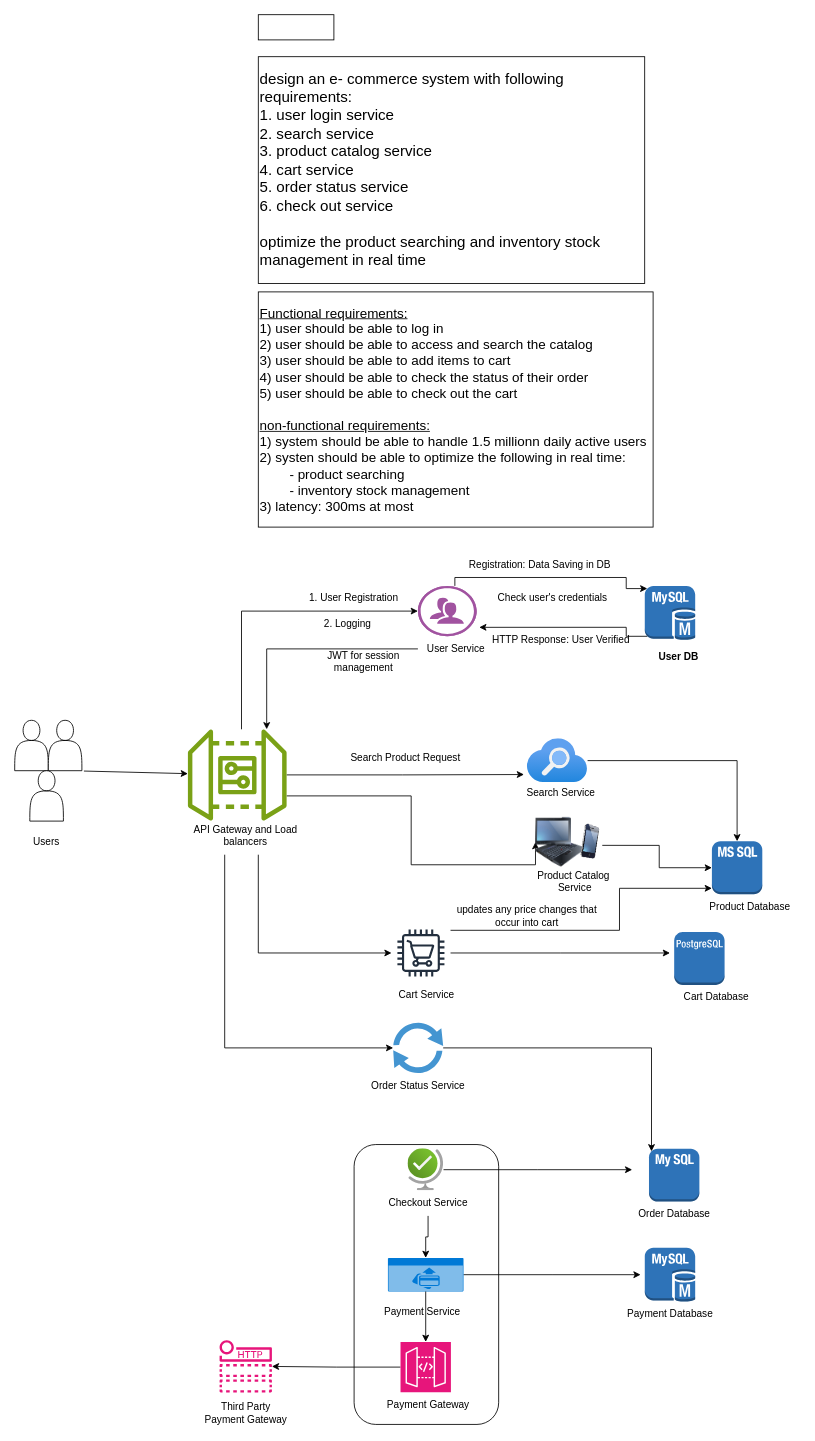
Some shapes in this 815 by 1441 pixel diagram are drawn without their labels. Each missing label, with the box of its shape:
odd: (257, 14, 334, 40)
Payment: (387, 1257, 463, 1291)
